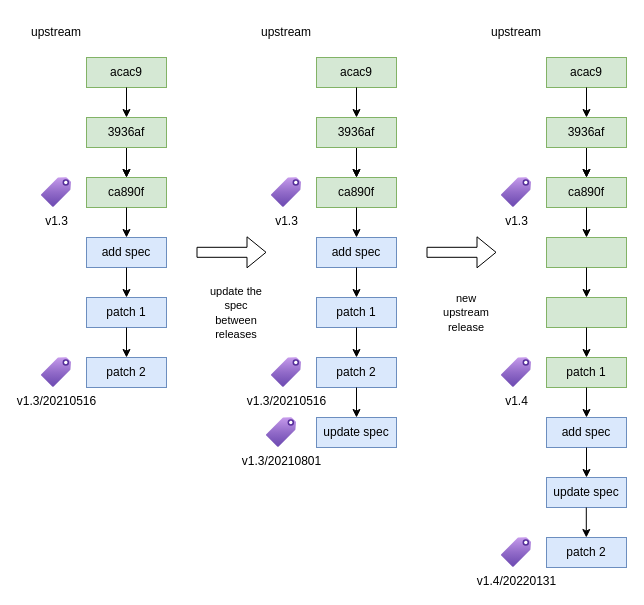
This 644x605 diagram has some shape labels left out. The box of each missing label's shape, as (x1, y1, x2, y2) in pixels:
42e1792: (546, 236, 626, 268)
d79de0: (546, 296, 626, 328)
